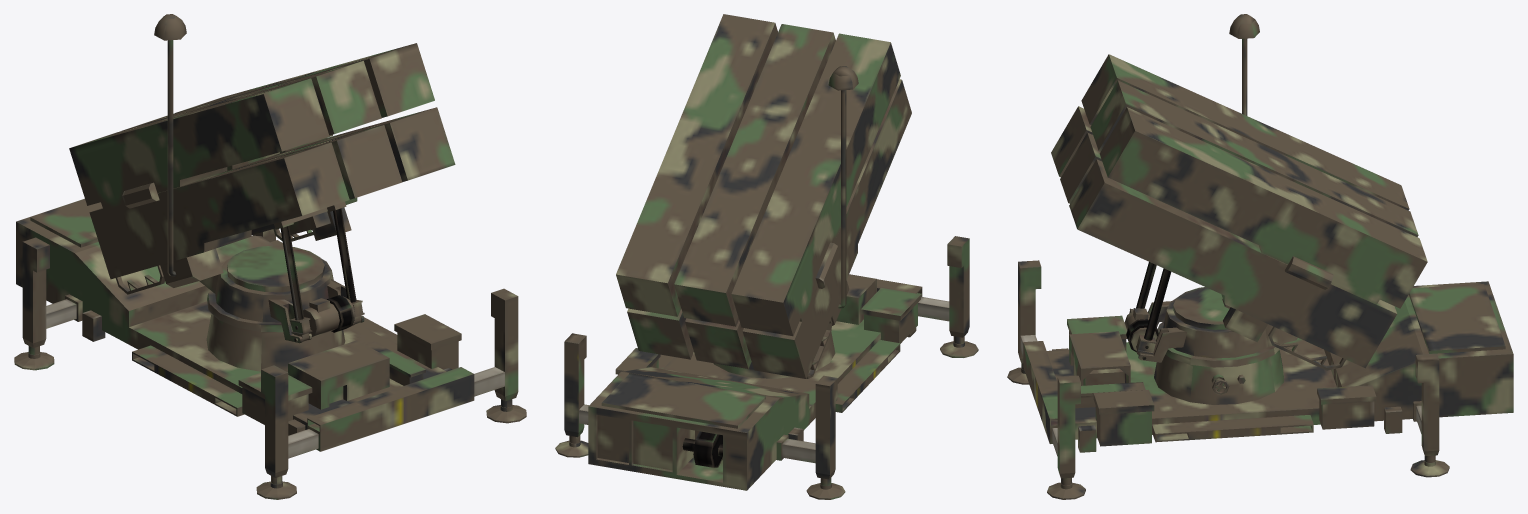
Rendered from sam_nasams.glb.
3 renders of one model, left to right at view 1: azimuth 30°, elevation 25°; view 2: azimuth 150°, elevation 25°; view 3: azimuth 270°, elevation 25°, orthographic. The views are drawn at different scales.
Visible parts, largest first — view 1: Nasams-1 Surface-to-Air Missile System_obj_cleaner_materialm; view 2: Nasams-1 Surface-to-Air Missile System_obj_cleaner_materialm; view 3: Nasams-1 Surface-to-Air Missile System_obj_cleaner_materialm.
Boxes of the visible parts, x1,y1,x2,y2 form: Nasams-1 Surface-to-Air Missile System_obj_cleaner_materialm: [14, 14, 526, 499]; Nasams-1 Surface-to-Air Missile System_obj_cleaner_materialm: [555, 14, 978, 499]; Nasams-1 Surface-to-Air Missile System_obj_cleaner_materialm: [1007, 14, 1513, 499].
Bounding box in the file's own units: 1.01 × 1.12 × 1.4.
1 material, 1 textured.
